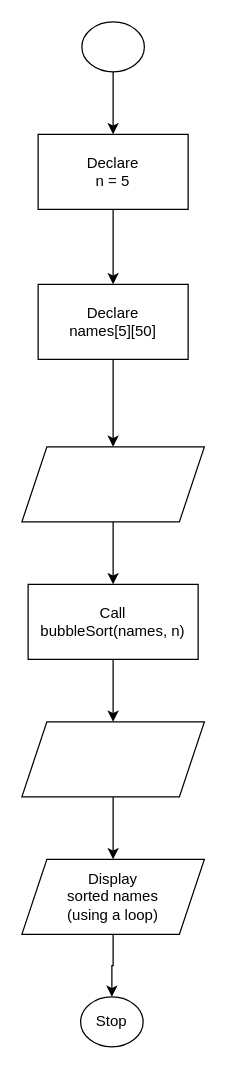
The diagram is 226 pixels wide and 1069 high, and some of its shapes have lost their labels. Each missing label, with the centre of its shape:
Input names from user (using loop): (x=112, y=484)
Print "Sorted names: ": (x=112, y=759)
Start: (x=112, y=46)
